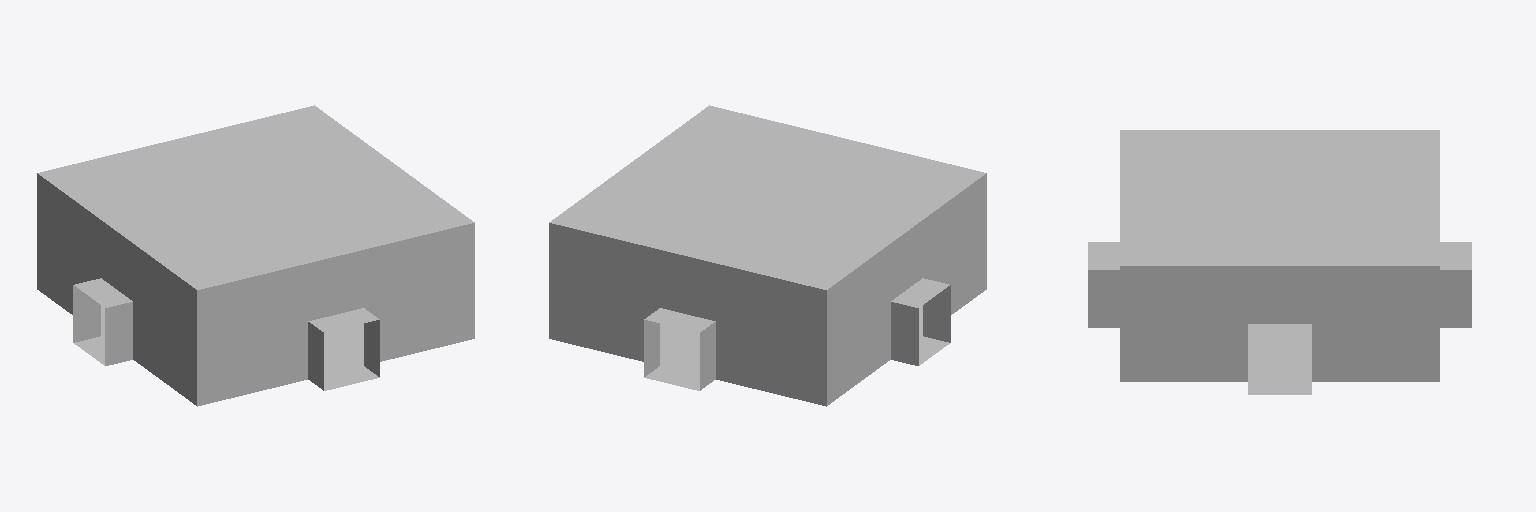
File: Hab5.obj
3 views of the same model, side by side, from view 1: azimuth 30°, elevation 25°; view 2: azimuth 150°, elevation 25°; view 3: azimuth 270°, elevation 25° (orthographic).
Visible parts, largest first — view 1: Cubo; view 2: Cubo; view 3: Cubo.
Part boxes in pixels (x1,y1,x2,y2): Cubo: (37, 105, 474, 406); Cubo: (549, 105, 986, 406); Cubo: (1088, 130, 1471, 394).
Size of the model in its own units: 12 by 4 by 12.